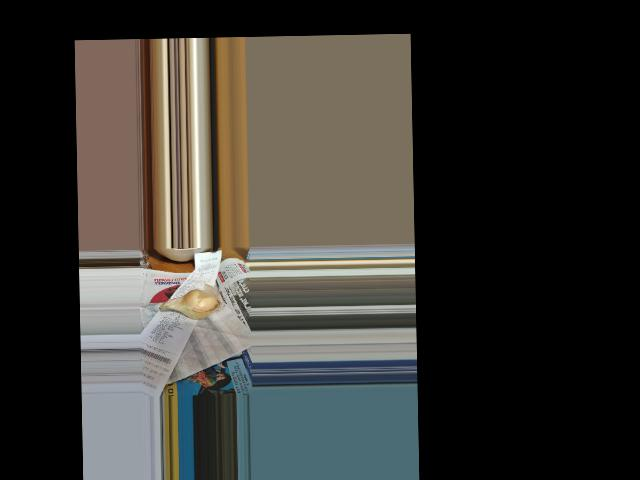onion: (163, 290, 218, 322)
